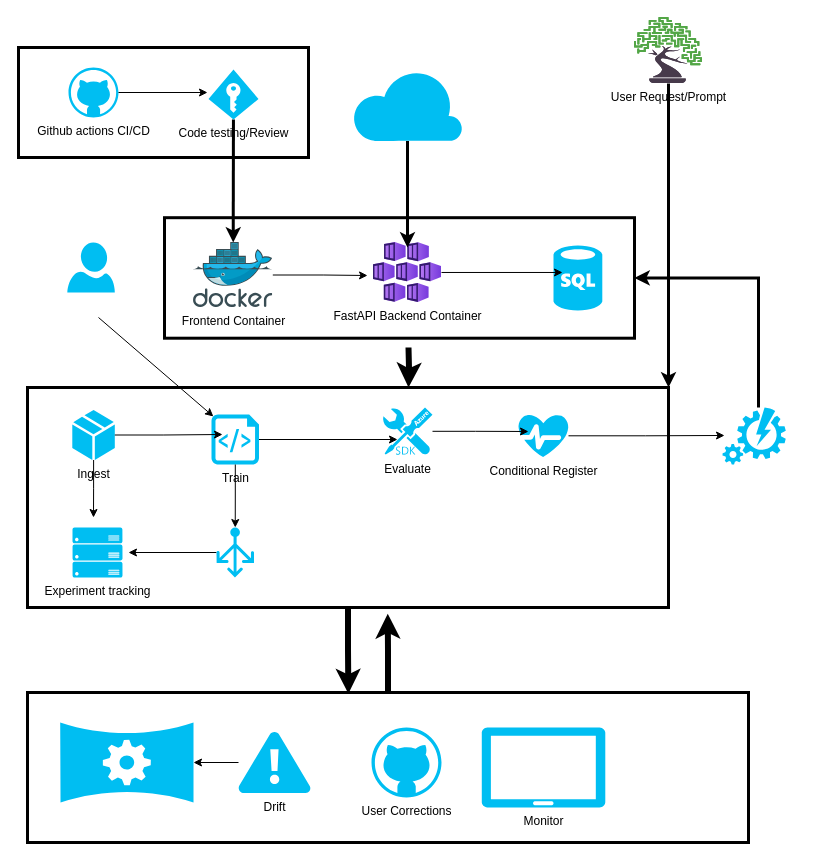
The diagram is 839 pixels wide and 861 high, and some of its shapes have lost their labels. Each missing label, with the box of its shape:
AMDIN/manual intervention: (67, 242, 114, 292)
Azure Blob Storage: (352, 69, 462, 140)
Azure Database: (553, 245, 602, 310)
Azure ML Model Registry: (722, 407, 785, 464)
Azure Monitor: (60, 722, 193, 802)
Hyperparameter sweep: (216, 527, 254, 577)
